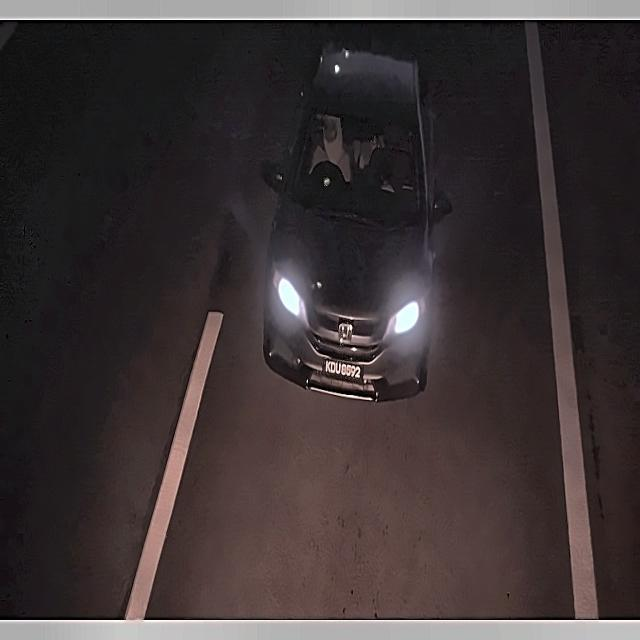car: (319, 349, 366, 392)
